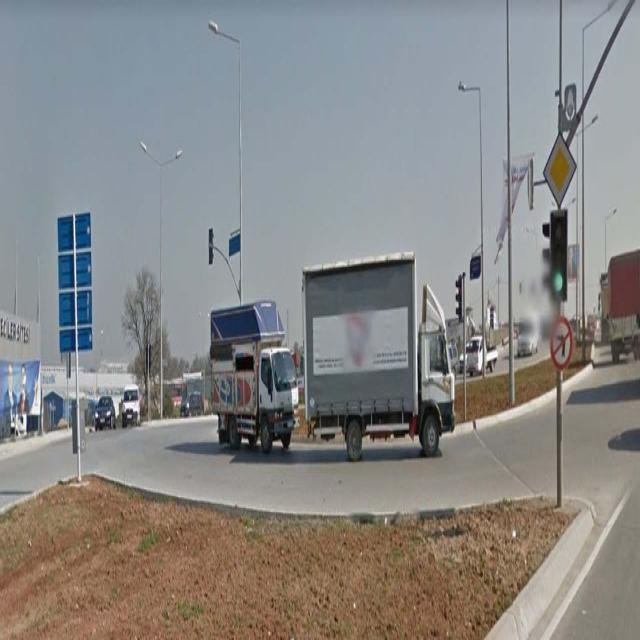soladonulmez: (550, 315, 572, 372)
yesil: (551, 213, 567, 300)
